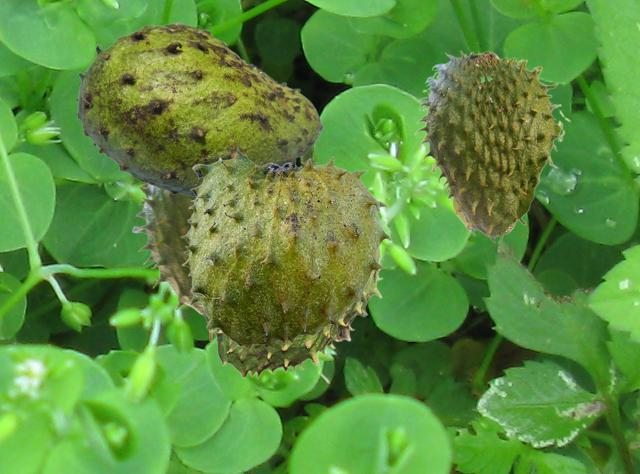guyabano: (75, 22, 322, 196), (180, 147, 391, 348), (414, 50, 570, 242), (207, 246, 382, 378), (132, 183, 213, 342)
